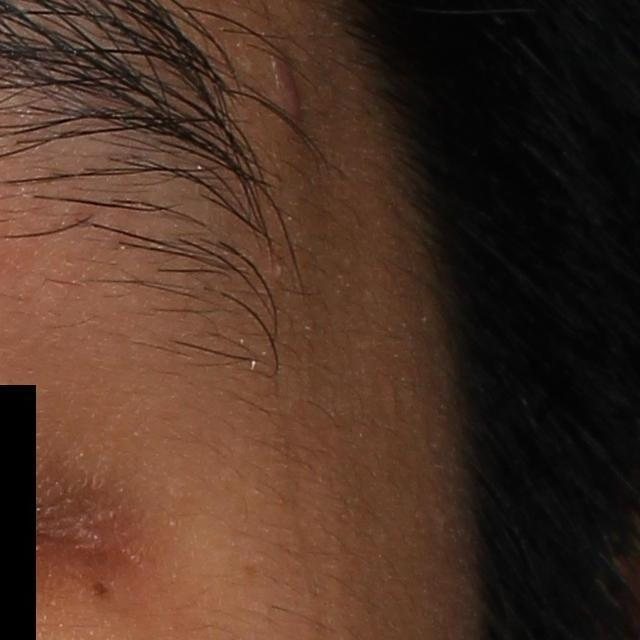nevus: (86, 578, 110, 598)
papule: (262, 45, 308, 133)
